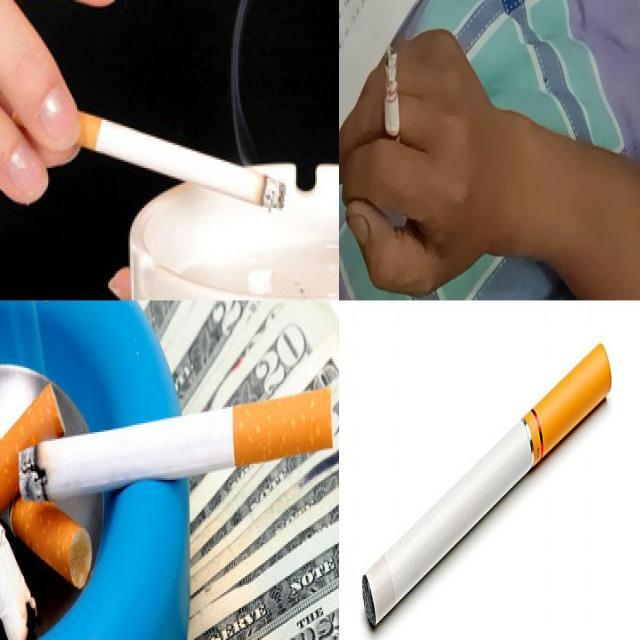cigarette: (360, 341, 612, 630), (9, 382, 338, 590), (76, 105, 286, 212), (384, 46, 402, 166)
